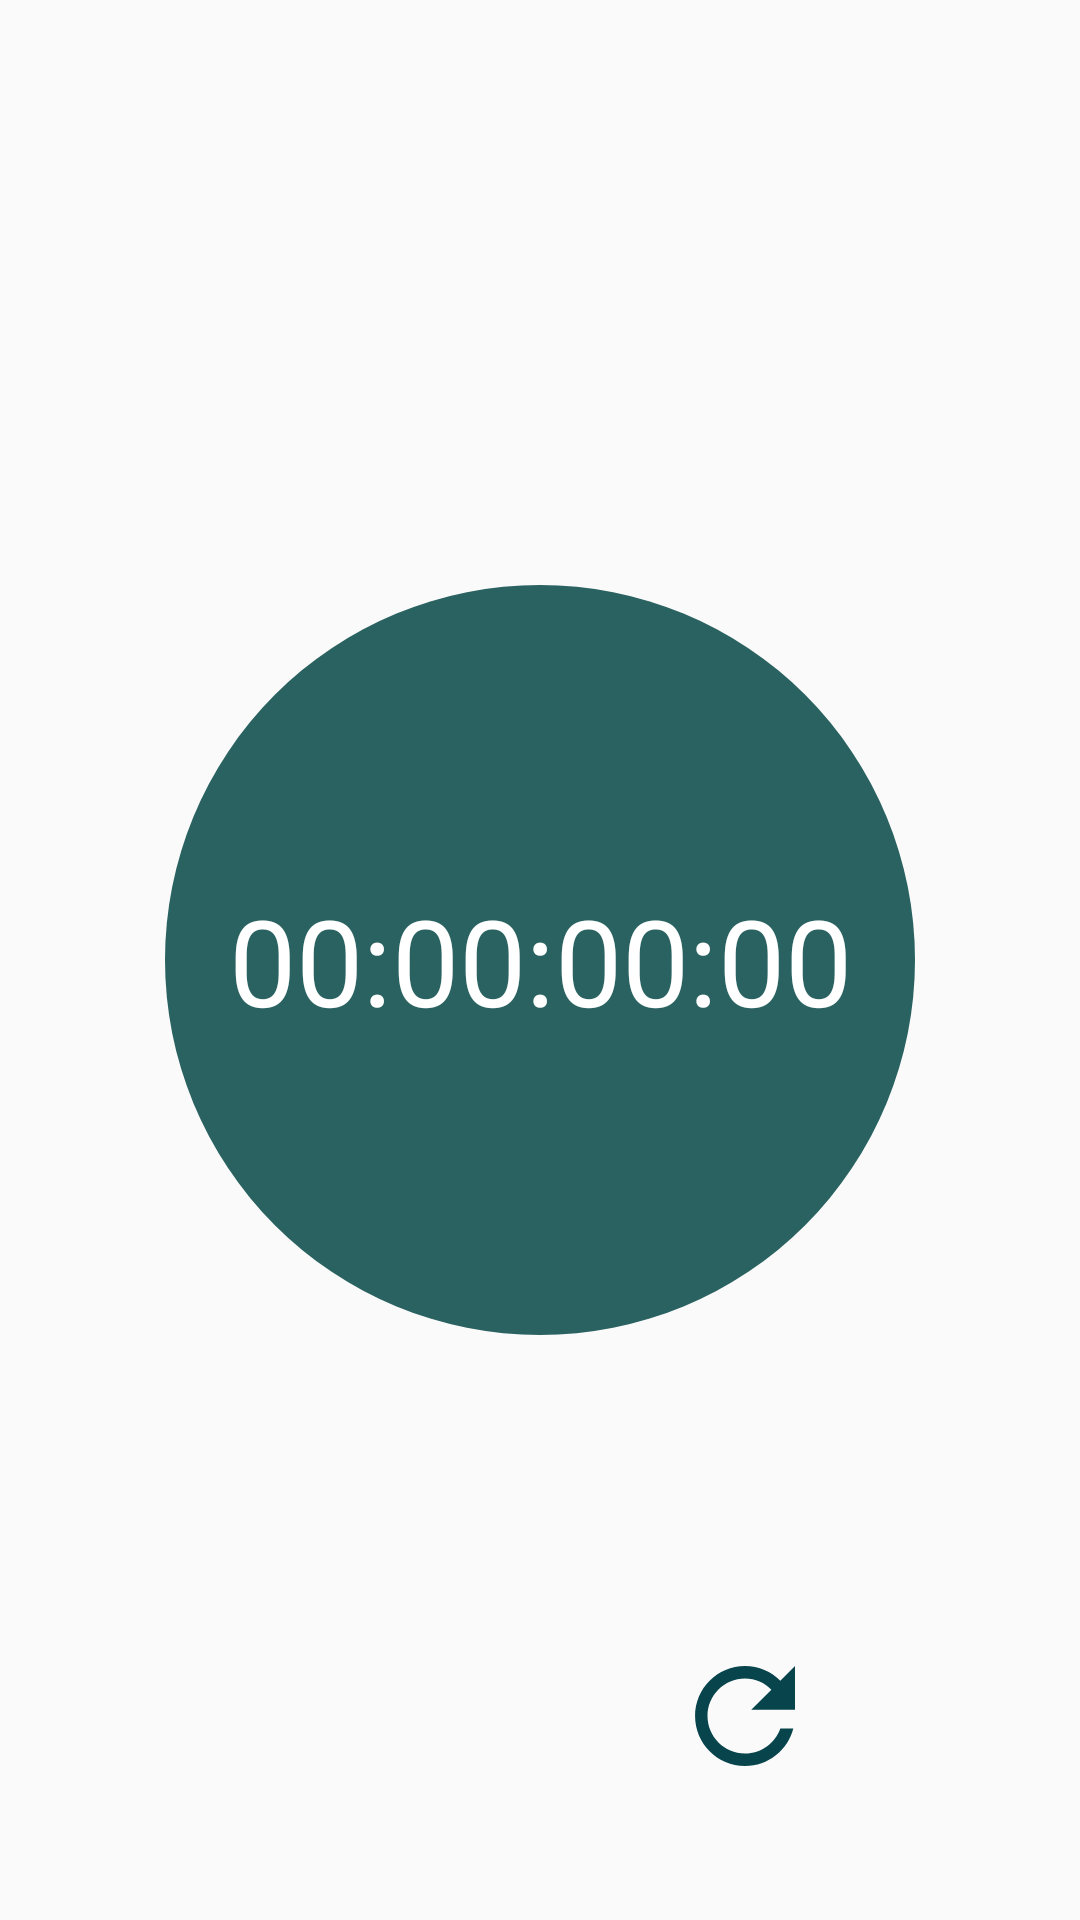

Locate icon controls on the screen. Image size 1080x1920, boxes as [x1,y1,x2,y2].
refresh: [695,1666,795,1766]
